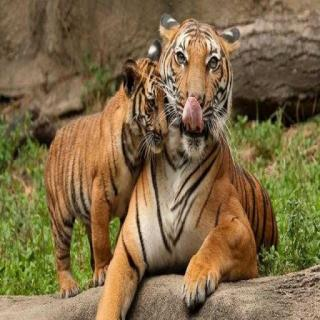Tiger: (103, 10, 283, 320), (34, 51, 172, 295)
